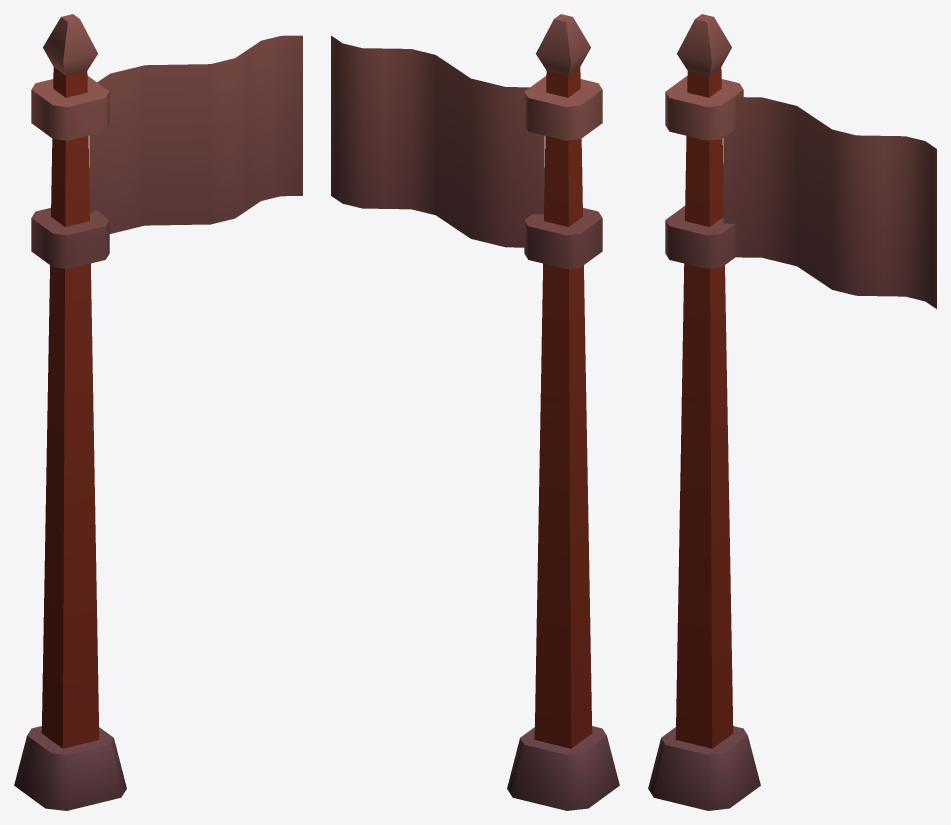
Rendered from etendard-corne.glb.
3 renders of one model, left to right at view 1: azimuth 30°, elevation 25°; view 2: azimuth 150°, elevation 25°; view 3: azimuth 330°, elevation 25°, orthographic.
Visible parts, largest first — view 1: flag-high; view 2: flag-high; view 3: flag-high.
Boxes of the visible parts, x1,y1,x2,y2 form: flag-high: (14,14,302,810); flag-high: (331,14,619,810); flag-high: (648,14,936,810).
Size of the model in its own units: 2.23 by 6 by 0.6651.
1 material, 1 textured.
